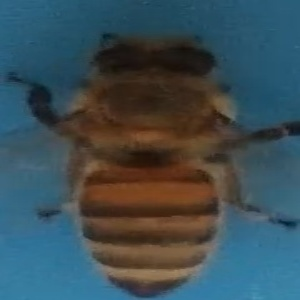bee: (7, 32, 298, 299)
